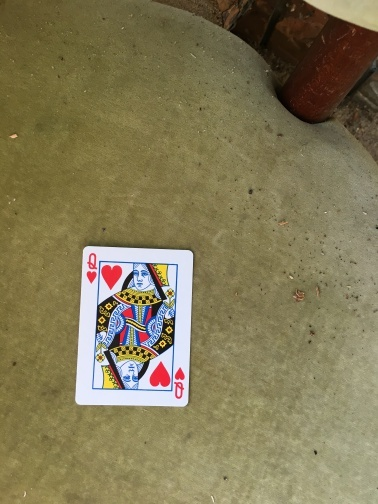queen: (82, 247, 189, 404)
